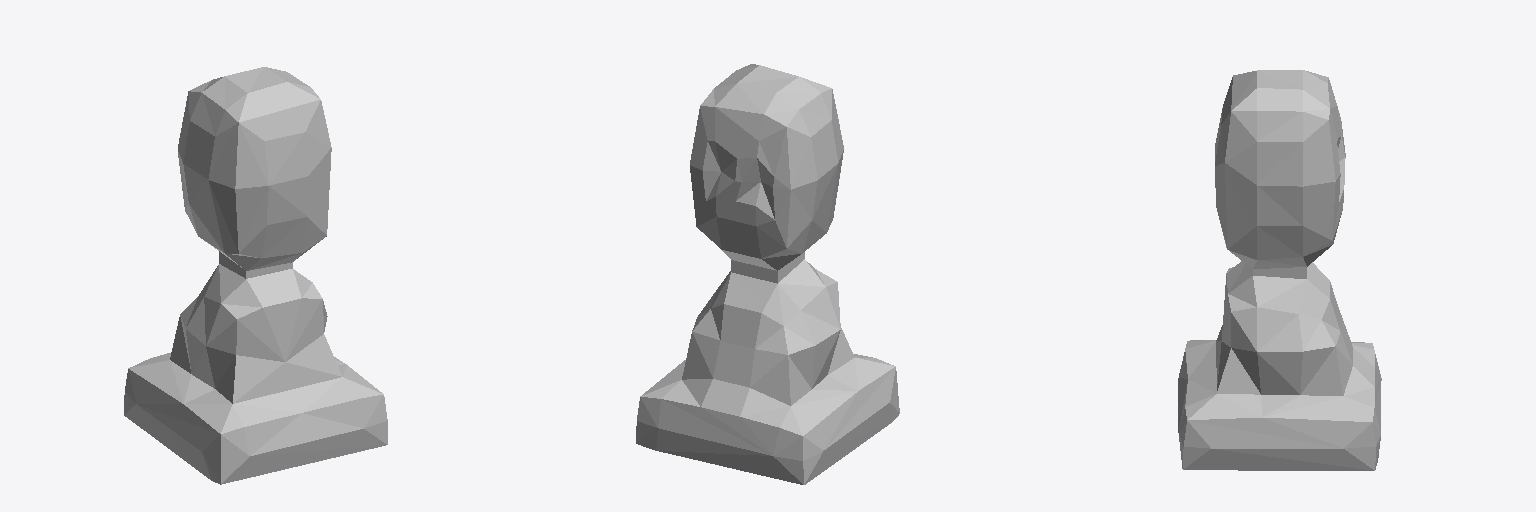
File: player.obj
3 renders of one model, left to right at view 1: azimuth 30°, elevation 25°; view 2: azimuth 150°, elevation 25°; view 3: azimuth 270°, elevation 25°, orthographic.
Size of the model in its own units: 0.5941 by 1.15 by 0.5943.